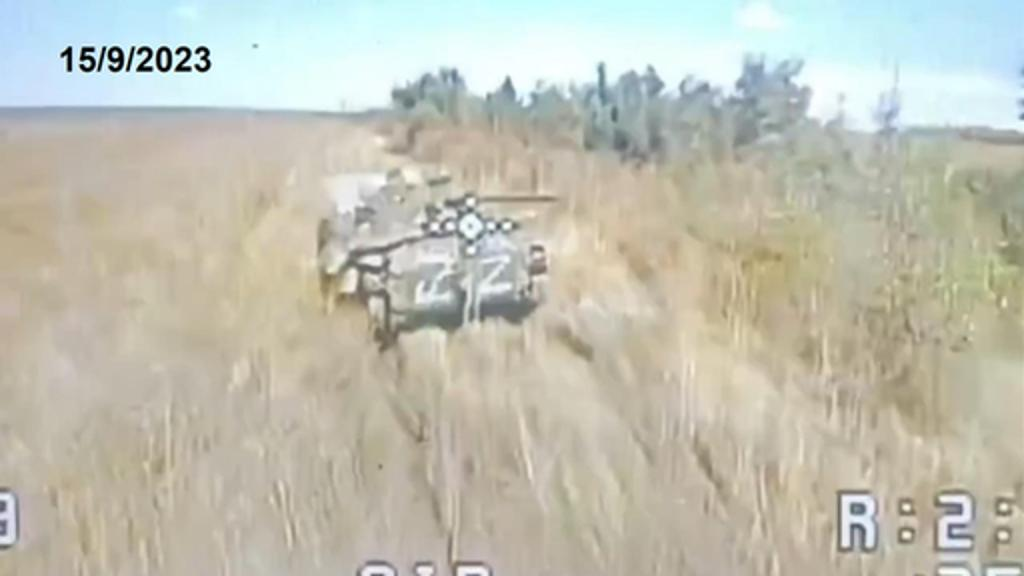APC-IFV: (310, 156, 558, 330)
